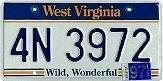placa de veiculo: (2, 0, 160, 80)
